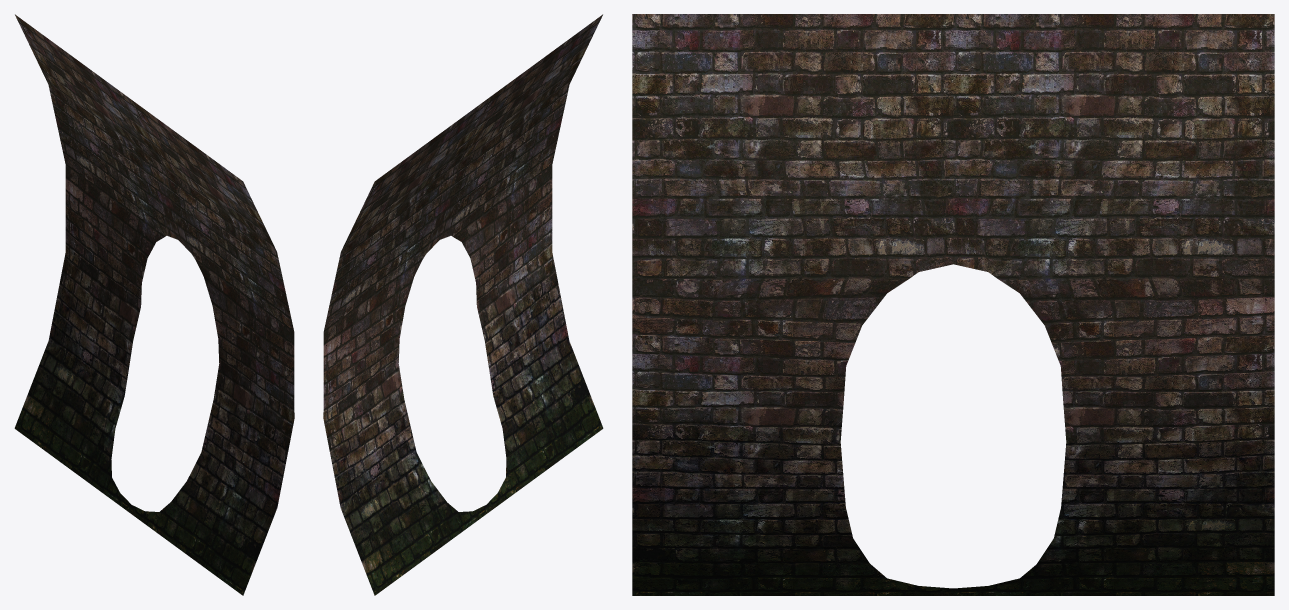
The model's file is walll_hole.DAE.
The picture shows the model from 3 angles, left to right: view 1: azimuth 30°, elevation 25°; view 2: azimuth 150°, elevation 25°; view 3: azimuth 270°, elevation 25°; orthographic projection. The views are drawn at different scales.
Visible parts, largest first — view 1: wall01_hole; view 2: wall01_hole; view 3: wall01_hole.
Boxes of the visible parts, x1,y1,x2,y2 form: wall01_hole: (14, 14, 294, 595); wall01_hole: (323, 14, 603, 595); wall01_hole: (632, 14, 1274, 595).
Size of the model in its own units: 0.518 by 4 by 4.
